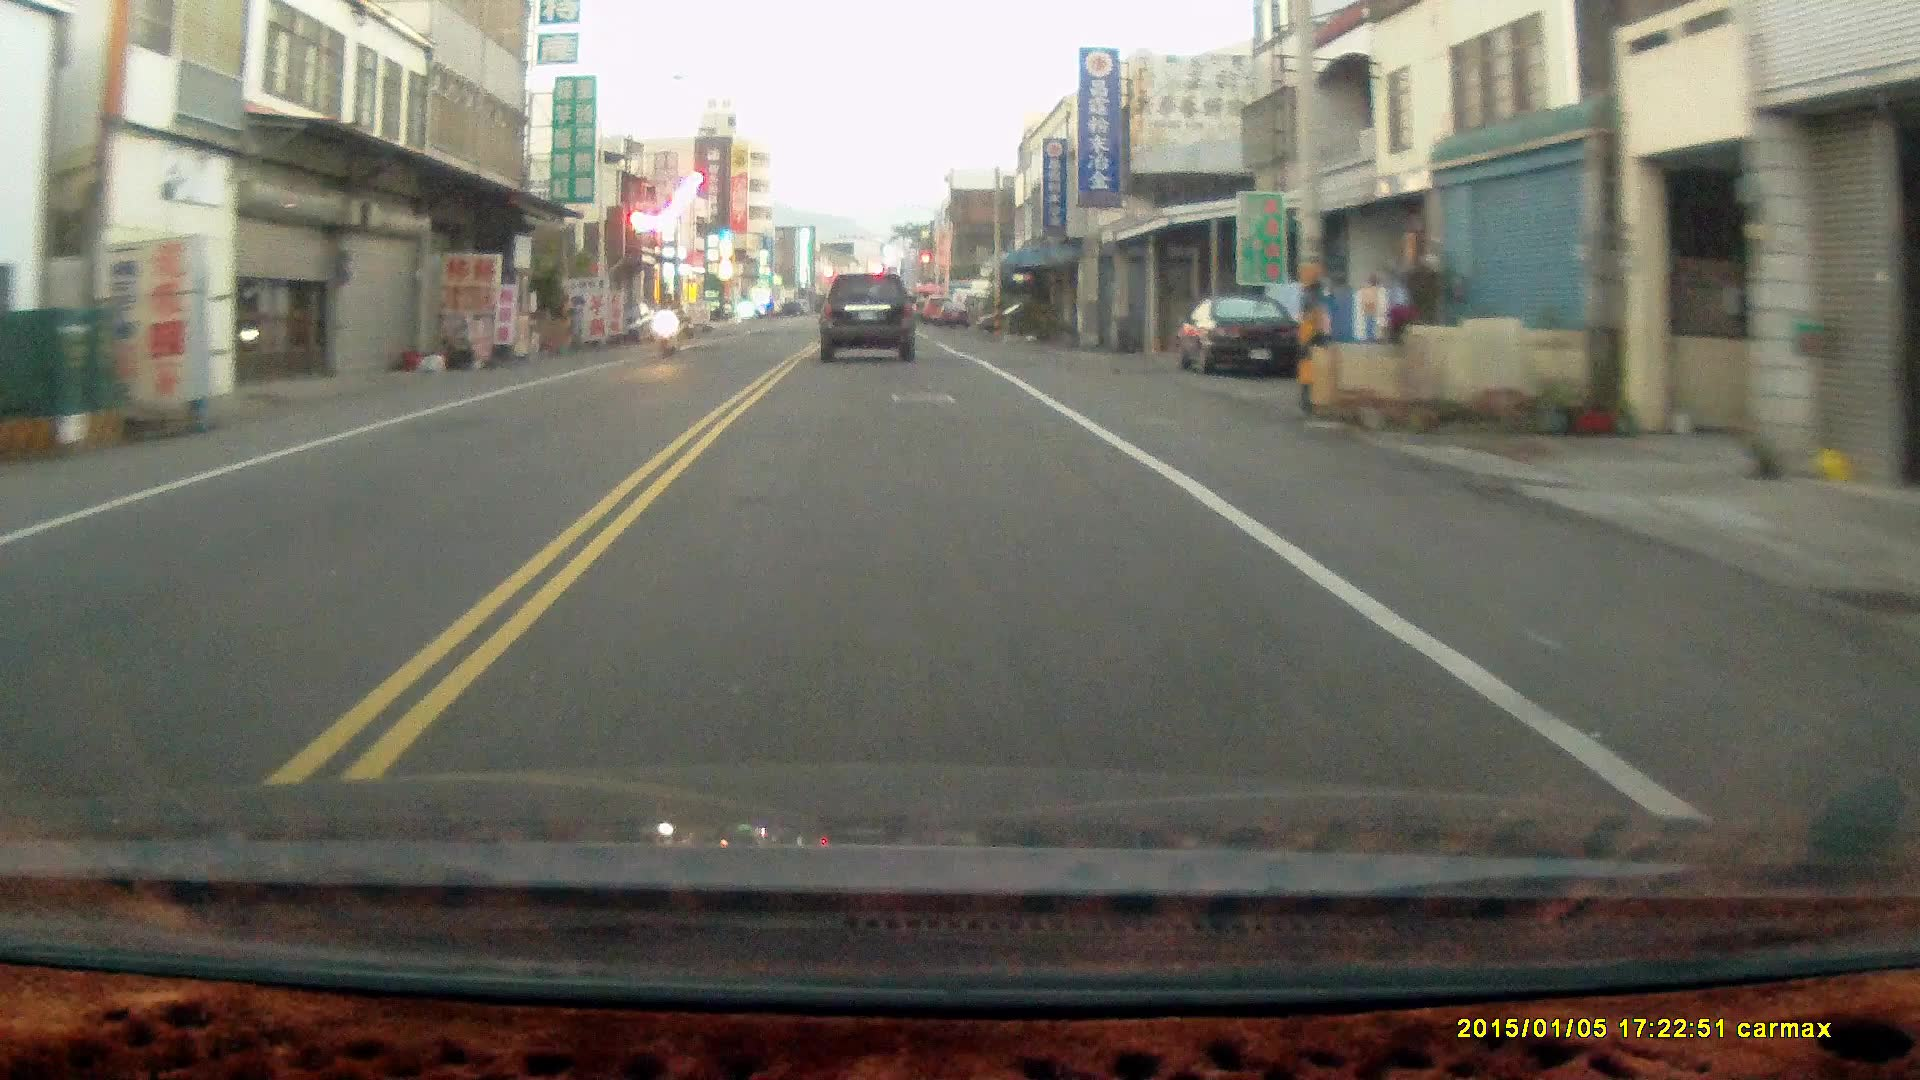rider: (655, 290, 682, 355)
vehicle: (1179, 298, 1308, 381), (821, 274, 919, 364)
